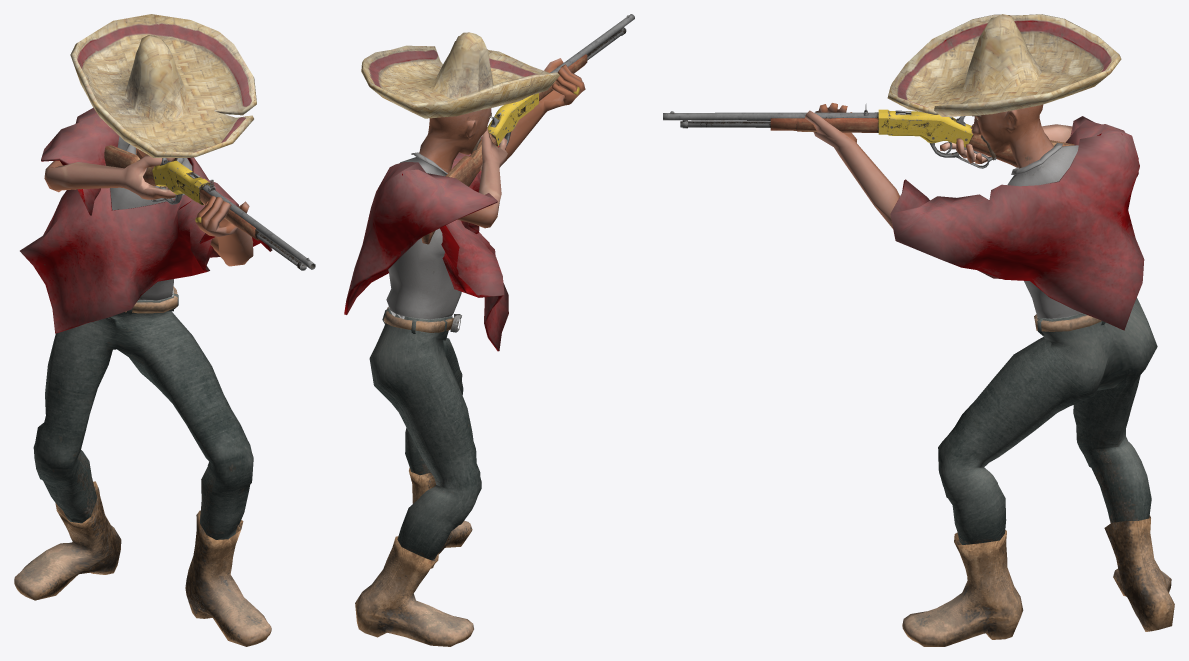
The model's file is Mexico.glb.
3 renders of one model, left to right at view 1: azimuth 30°, elevation 25°; view 2: azimuth 150°, elevation 25°; view 3: azimuth 270°, elevation 25°, orthographic. The views are drawn at different scales.
Visible parts, largest first — view 1: Object_3, Object_4; view 2: Object_3, Object_4; view 3: Object_3, Object_4.
Boxes of the visible parts, x1,y1,x2,y2 form: Object_3: [14, 14, 272, 646]; Object_4: [104, 145, 315, 270]; Object_3: [344, 32, 585, 646]; Object_4: [421, 14, 634, 244]; Object_3: [805, 14, 1174, 646]; Object_4: [663, 103, 1074, 168].
Bounding box in the file's own units: 0.6227 × 2 × 1.54.
Materials: 2 (2 with a texture image).
